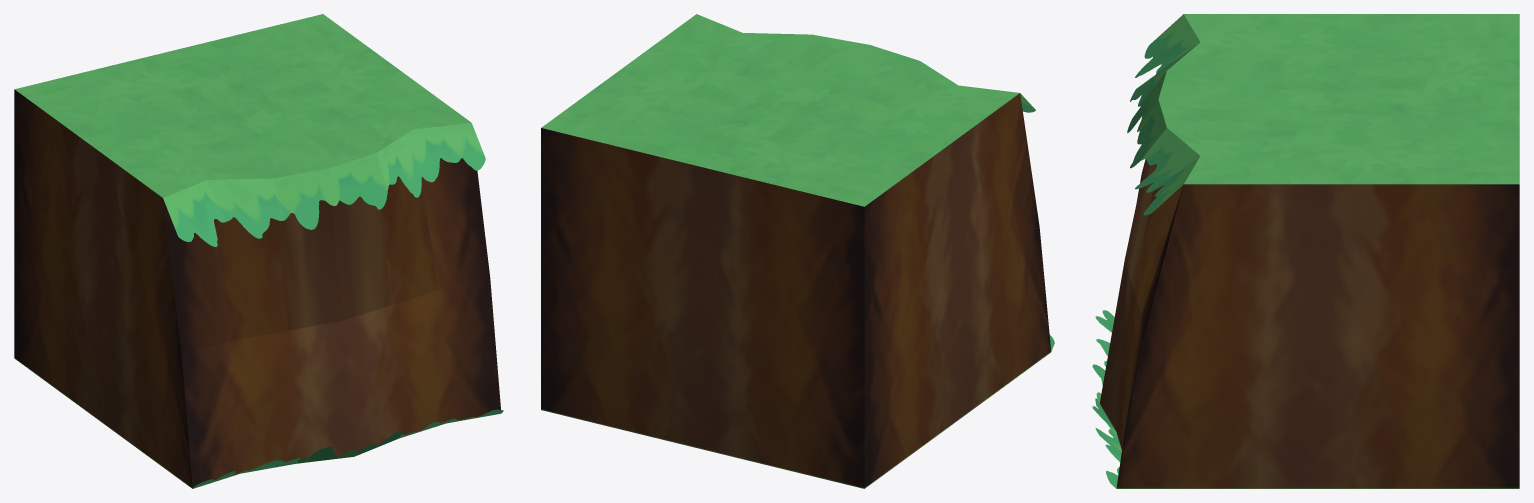
File: Cliff01_Center_Convex_1x1x2.fbx
3 views of the same model, side by side, from view 1: azimuth 30°, elevation 25°; view 2: azimuth 150°, elevation 25°; view 3: azimuth 270°, elevation 25° (orthographic). The views are drawn at different scales.
Parts seen in each view (by area): view 1: Cliff01_Center_Convex_1x1x2, Cliff01_Center_Convex_1x1x2_Grass; view 2: Cliff01_Center_Convex_1x1x2; view 3: Cliff01_Center_Convex_1x1x2, Cliff01_Center_Convex_1x1x2_Grass.
Part boxes in pixels (bbox=[...]): Cliff01_Center_Convex_1x1x2: bbox=[14, 14, 500, 488]; Cliff01_Center_Convex_1x1x2_Grass: bbox=[163, 122, 503, 488]; Cliff01_Center_Convex_1x1x2: bbox=[541, 14, 1051, 488]; Cliff01_Center_Convex_1x1x2: bbox=[1099, 14, 1519, 488]; Cliff01_Center_Convex_1x1x2_Grass: bbox=[1092, 14, 1200, 488].
Size of the model in its own units: 3 by 3.19 by 2.5.
